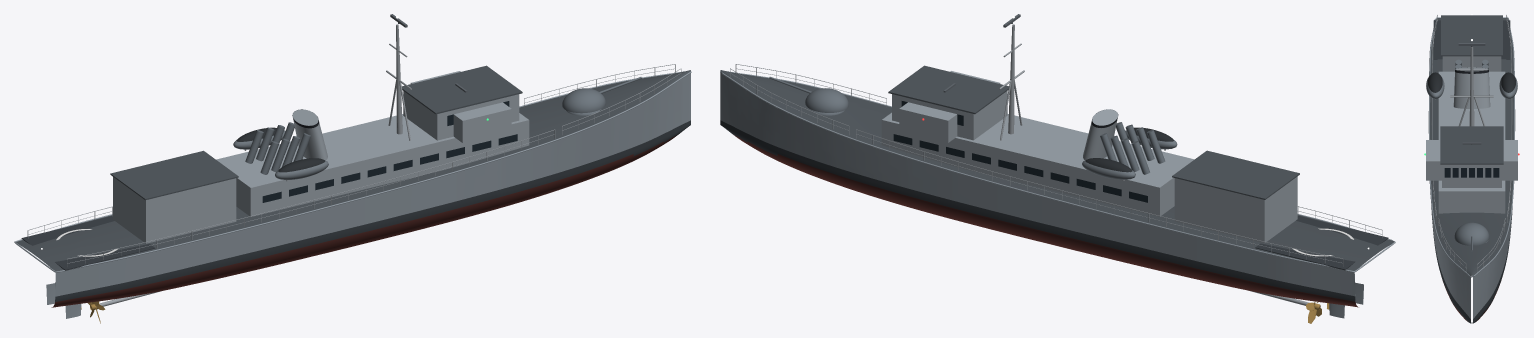
Rendered from naval.glb.
The picture shows the model from 3 angles, left to right: view 1: azimuth 30°, elevation 25°; view 2: azimuth 150°, elevation 25°; view 3: azimuth 270°, elevation 25°; orthographic projection. The views are drawn at different scales.
Parts seen in each view (by area): view 1: hull, deckhouse, deck, hangar, hangar_roof, bridge_roof, missile_canisters, bridge_wings, gunwale, bridge, helideck, deckhouse_win_s (+4 smaller); view 2: hull, deckhouse, deck, hangar, hangar_roof, bridge_roof, missile_canisters, bridge_wings, gunwale, bridge, helideck, deckhouse_win_p (+4 smaller); view 3: deck, deckhouse, hull, hangar_roof, bridge_roof, bridge_wings, funnel_stack, bridge, gunwale, hangar, mast, turret (+13 smaller).
Boxes of the visible parts, x1,y1,x2,y2 form: hull: [51, 73, 690, 307]; deckhouse: [216, 113, 529, 216]; deck: [16, 70, 690, 271]; hangar: [113, 177, 236, 243]; hangar_roof: [110, 150, 238, 200]; bridge_roof: [402, 65, 522, 114]; missile_canisters: [245, 122, 310, 174]; bridge_wings: [410, 71, 511, 142]; gunwale: [14, 71, 691, 272]; bridge: [403, 91, 519, 140]; helideck: [21, 216, 155, 270]; deckhouse_win_s: [262, 134, 517, 202]; hull: [720, 72, 1358, 307]; deckhouse: [881, 112, 1194, 216]; deck: [720, 70, 1393, 270]; hangar: [1174, 176, 1297, 243]; hangar_roof: [1172, 150, 1299, 199]; bridge_roof: [888, 65, 1008, 114]; missile_canisters: [1100, 122, 1165, 174]; bridge_wings: [899, 71, 1000, 142]; gunwale: [722, 71, 1395, 272]; bridge: [892, 91, 1007, 140]; helideck: [1255, 216, 1388, 270]; deckhouse_win_p: [893, 134, 1147, 202]; deck: [1430, 18, 1513, 276]; deckhouse: [1438, 71, 1505, 213]; hull: [1431, 206, 1512, 323]; hangar_roof: [1441, 15, 1502, 56]; bridge_roof: [1440, 126, 1503, 164]; bridge_wings: [1426, 140, 1517, 180]; funnel_stack: [1453, 67, 1490, 108]; bridge: [1442, 164, 1501, 187]; gunwale: [1428, 17, 1515, 277]; hangar: [1442, 56, 1501, 71]; mast: [1450, 47, 1493, 126]; turret: [1454, 222, 1489, 245].
Bounding box in the file's own units: 80.16 × 25.9 × 11.44.
